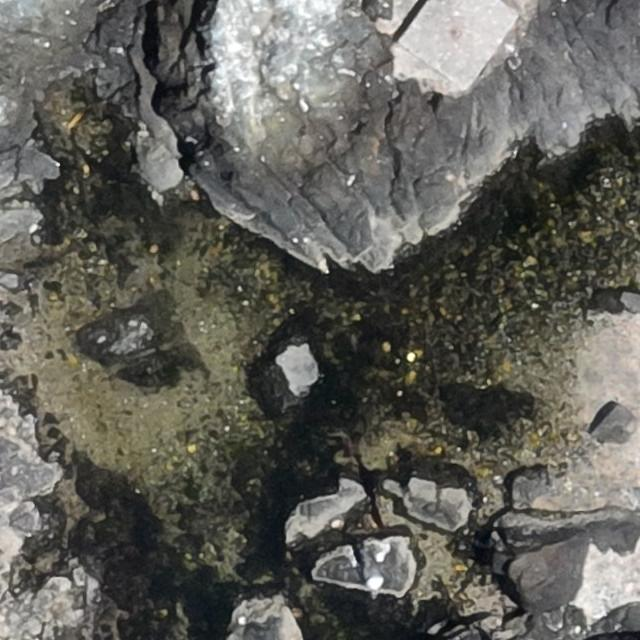umineko: (366, 562, 383, 590)
